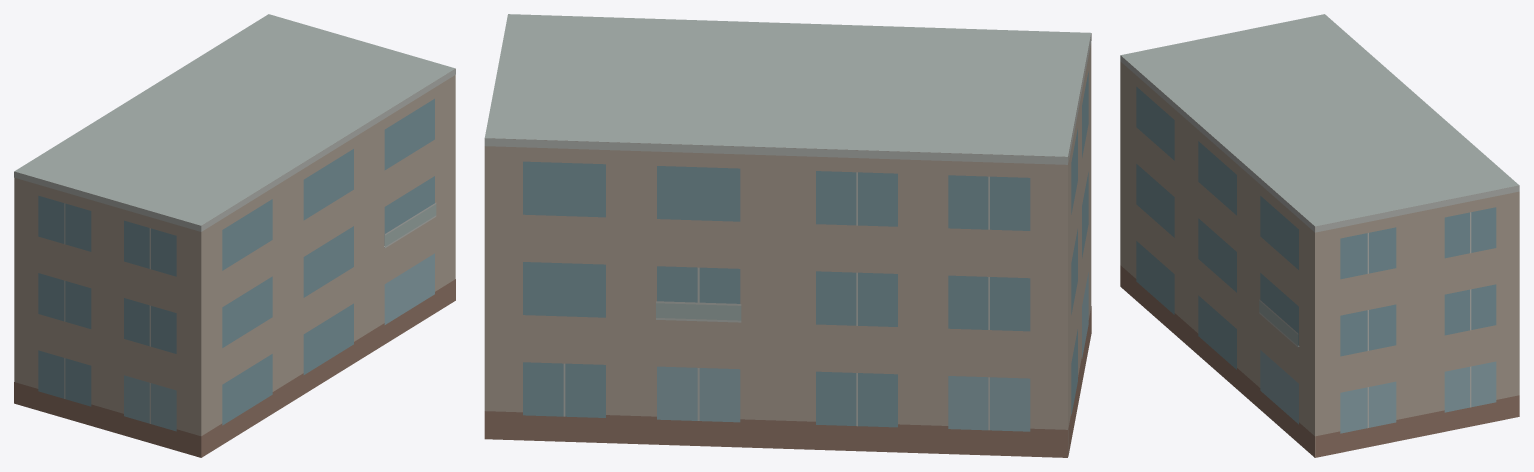
The model's file is survey-upis-32705592.glb.
The picture shows the model from 3 angles, left to right: view 1: azimuth 30°, elevation 25°; view 2: azimuth 150°, elevation 25°; view 3: azimuth 270°, elevation 25°; orthographic projection. The views are drawn at different scales.
Parts seen in each view (by area): view 1: survey-upis-32705592.tmp; view 2: survey-upis-32705592.tmp; view 3: survey-upis-32705592.tmp.
Part boxes in pixels (bbox=[...]): survey-upis-32705592.tmp: bbox=[14, 14, 455, 457]; survey-upis-32705592.tmp: bbox=[484, 14, 1091, 457]; survey-upis-32705592.tmp: bbox=[1120, 14, 1519, 457].
Bounding box in the file's own units: 18.03 × 9.15 × 14.31.
